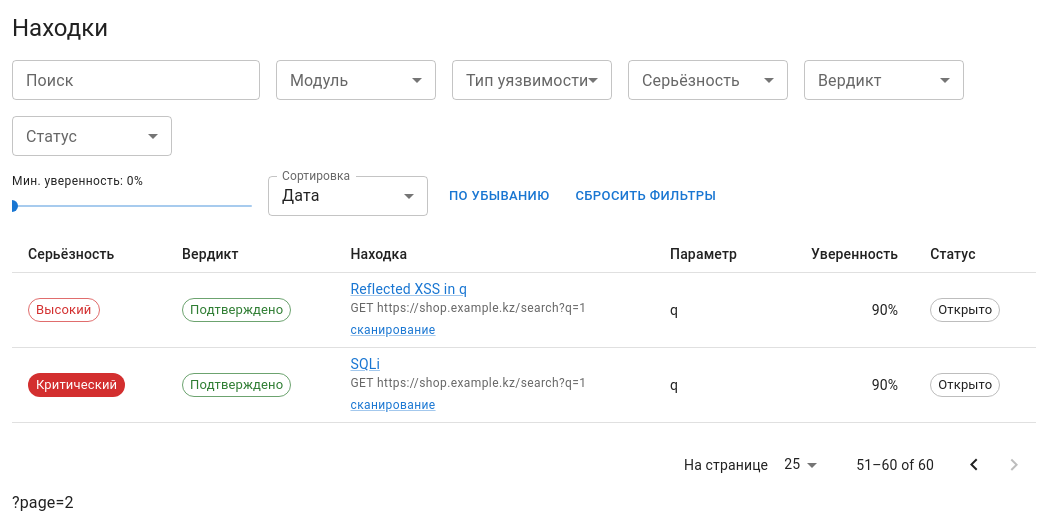
Test: FindingsPage › resets the page when a filter changes
This screenshot has width=1048, height=528.
Check: the table named "Список находок" is shown, box [12,236,1036,423]
Click the dropdown named "Модуль" next to "Модуль".
click(356, 80)  # box [276,60,436,100]
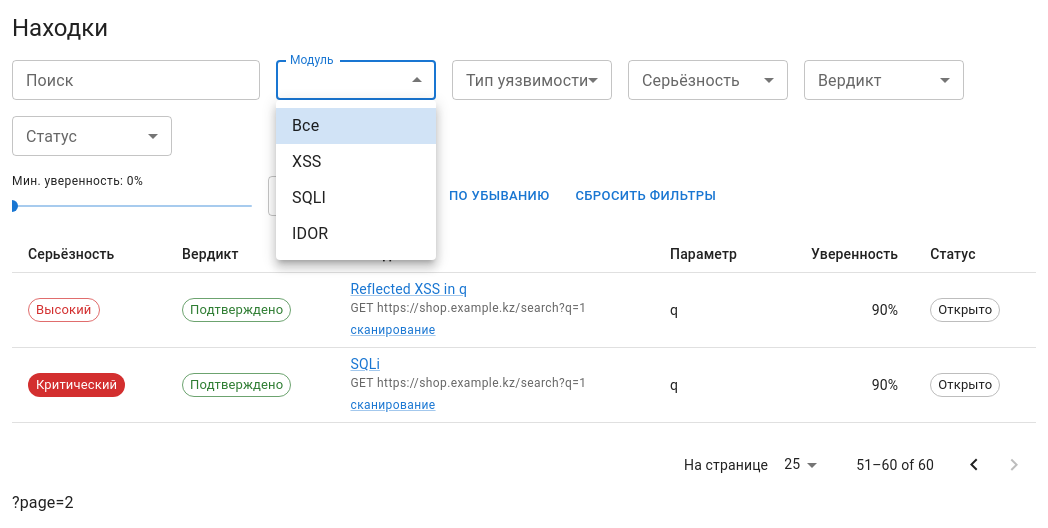
Click the option "XSS".
click(307, 162)  # box [292,152,322,171]
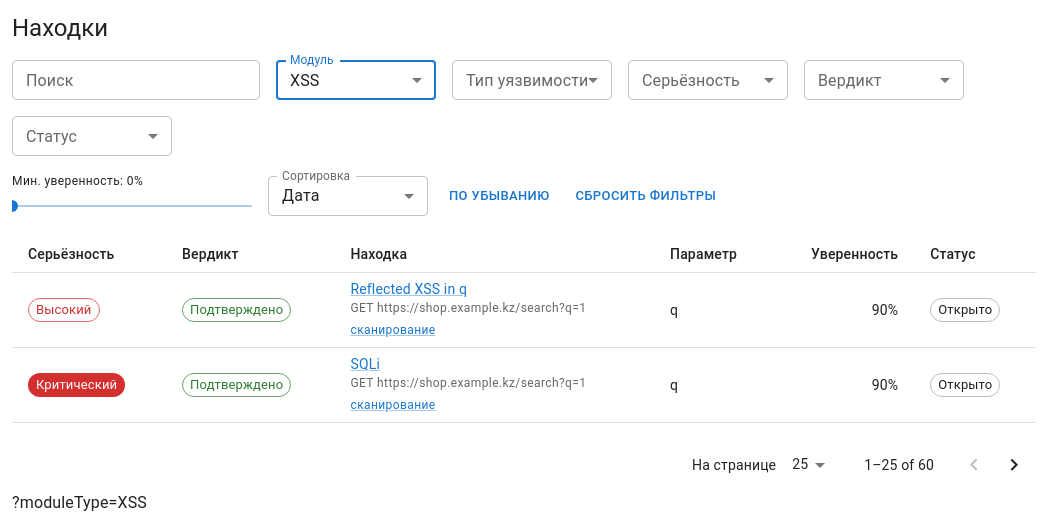
Check: the text with test id "search" shows "moduleType=XSS", box [12,493,147,512]
Check: the text with test id "search" no longer shows "page="
